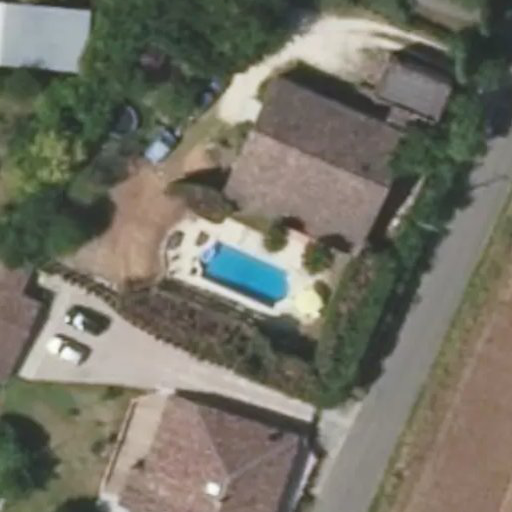pool: (202, 237, 310, 247)
